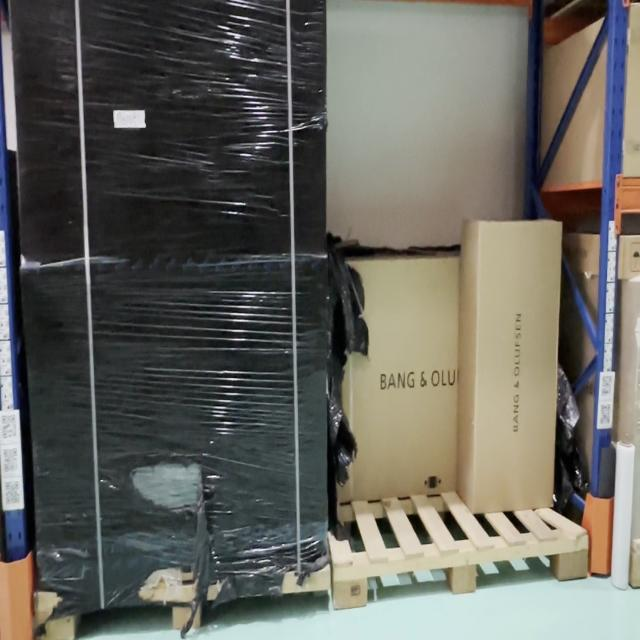box: (9, 0, 327, 587), (334, 257, 458, 494), (473, 221, 562, 514)
